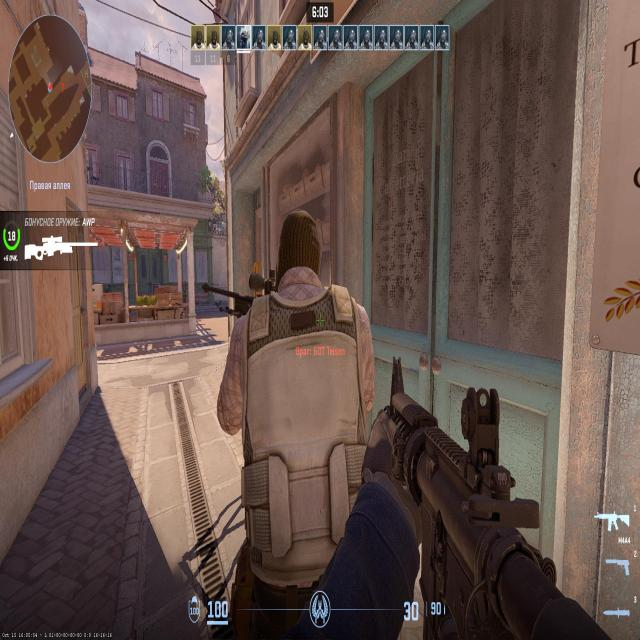T: (258, 221, 359, 536)
T_heat: (280, 225, 311, 285)
